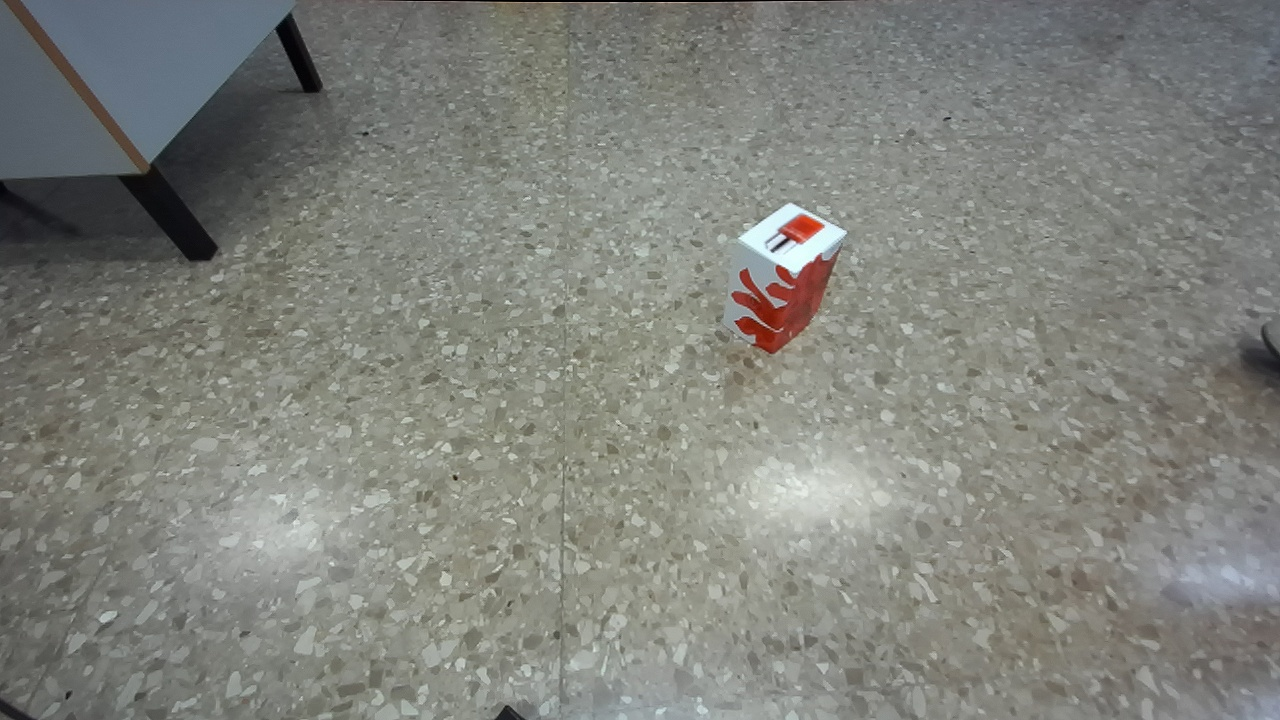caja_potencia: (723, 203, 845, 352)
